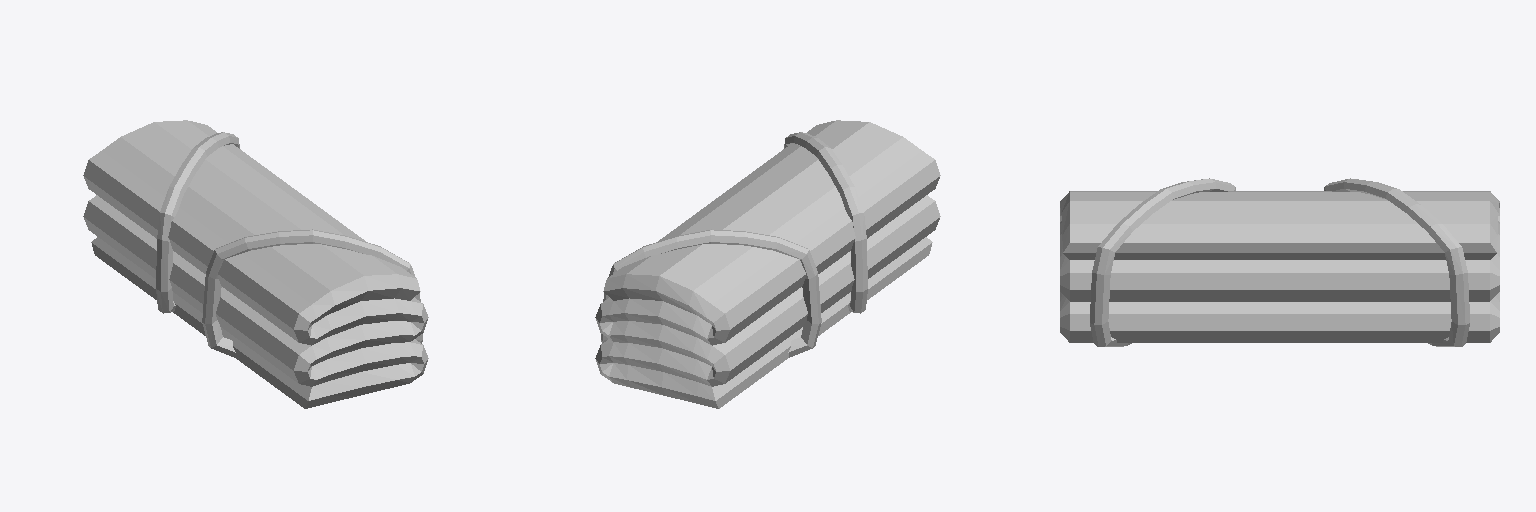
File: Textiles_C.obj
3 views of the same model, side by side, from view 1: azimuth 30°, elevation 25°; view 2: azimuth 150°, elevation 25°; view 3: azimuth 270°, elevation 25° (orthographic).
Parts seen in each view (by area): view 1: Textiles_C; view 2: Textiles_C; view 3: Textiles_C.
Part boxes in pixels (left/top/right/bottom): Textiles_C: left=83, top=120, right=428, bottom=408; Textiles_C: left=595, top=120, right=940, bottom=408; Textiles_C: left=1060, top=178, right=1499, bottom=346.
Bounding box in the file's own units: 0.6142 × 0.5225 × 1.55.